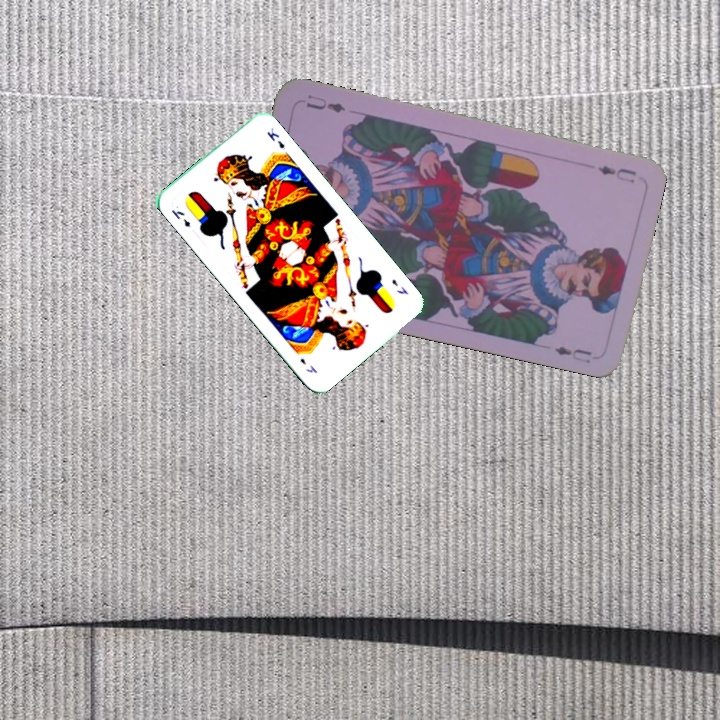EK: (167, 205, 193, 230), (388, 275, 411, 297)
EU: (594, 161, 639, 186)
